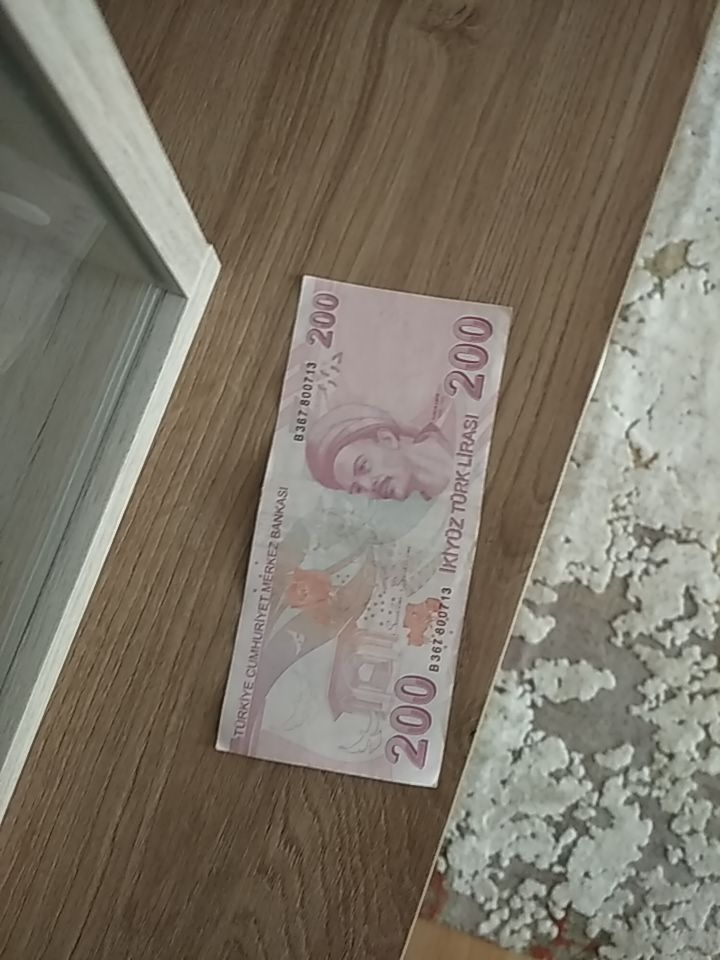200TL: (213, 271, 517, 789)
